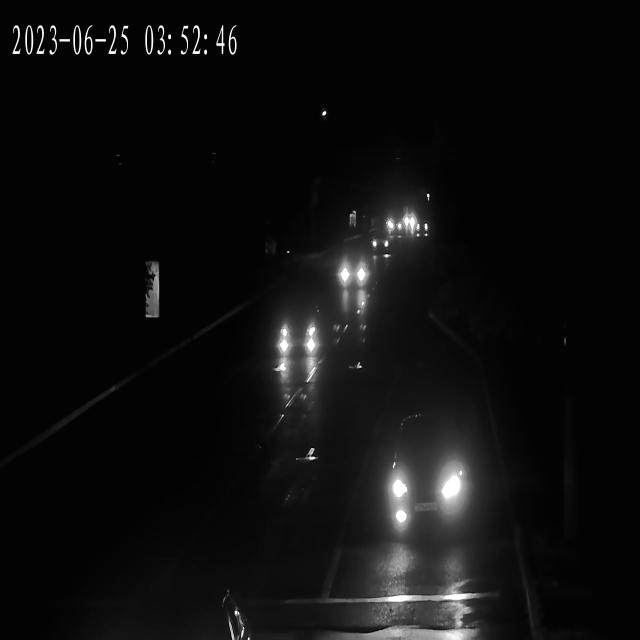Car: (375, 417, 475, 534), (272, 301, 324, 356), (334, 252, 374, 291), (368, 233, 388, 254), (383, 214, 405, 232), (387, 216, 410, 233), (395, 213, 415, 229), (401, 210, 418, 226), (411, 221, 430, 234)
